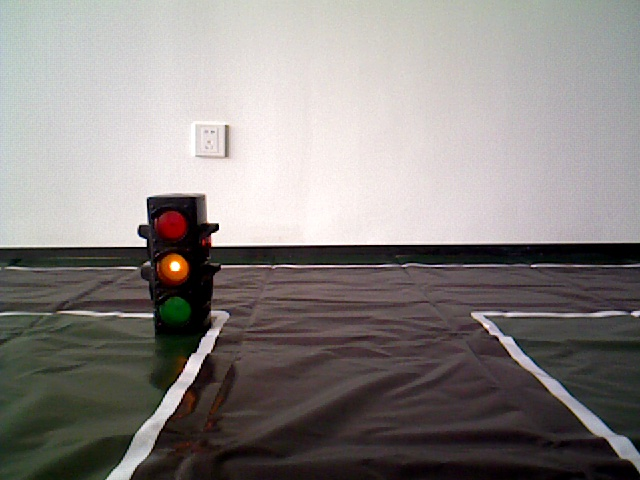yellow: (149, 197, 215, 335)
